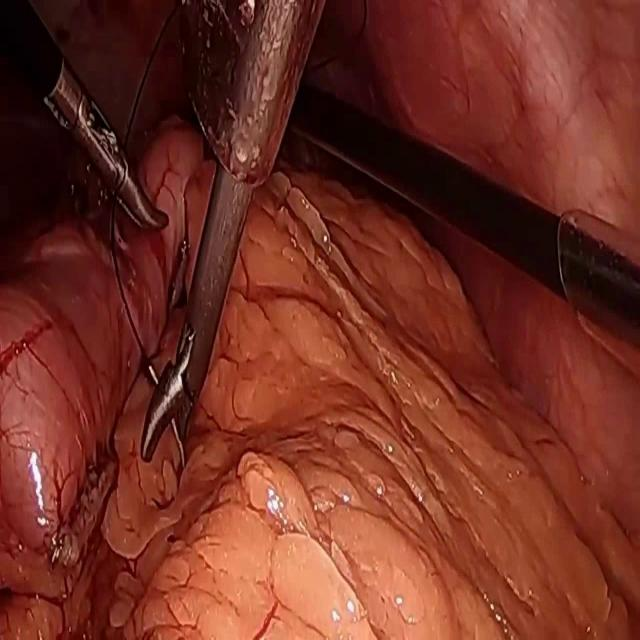surgical-area: (0, 0, 640, 639), (302, 0, 640, 239)
surgical-tool: (286, 81, 640, 347), (142, 0, 328, 463)
